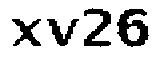2: (82, 6, 113, 50)
6: (116, 6, 154, 49)
v: (46, 16, 79, 48)
x: (8, 17, 44, 52)
